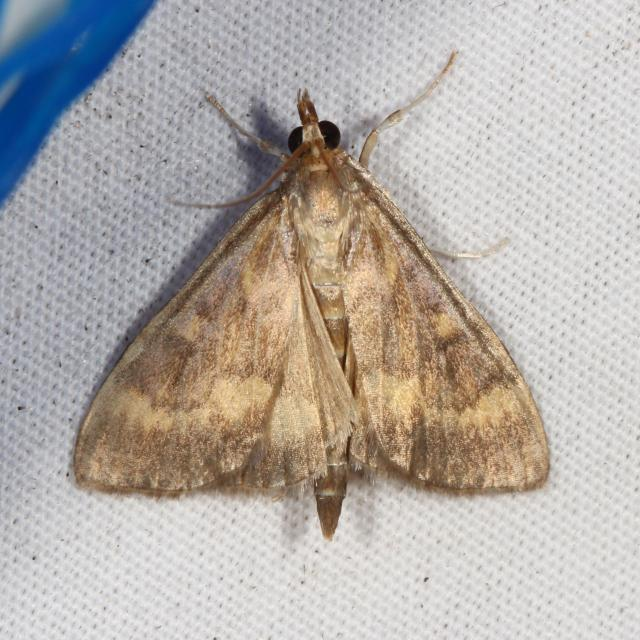cornborer-Adult-: (42, 48, 560, 557)
